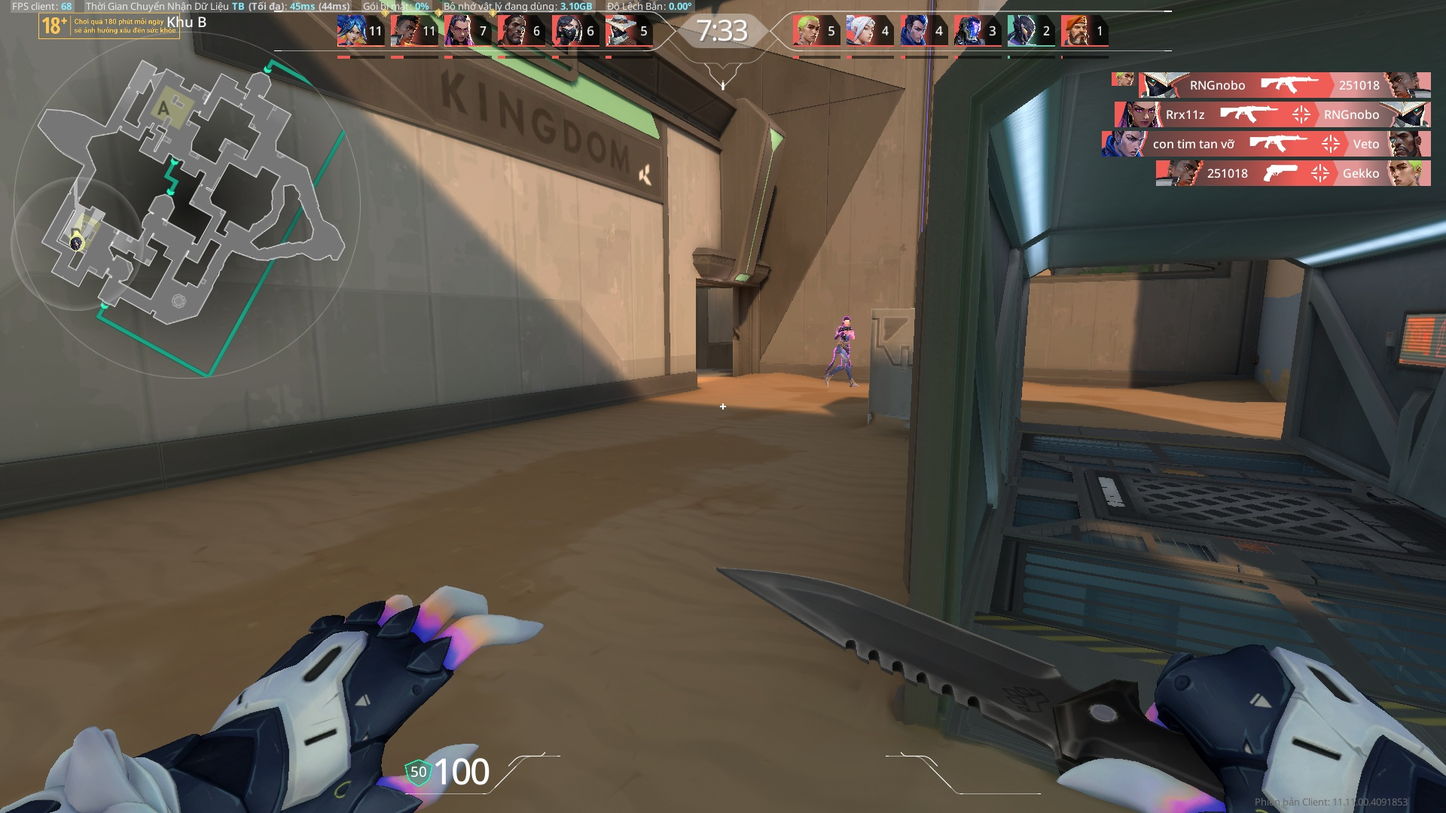body: (832, 326, 857, 352)
head: (840, 315, 856, 329)
